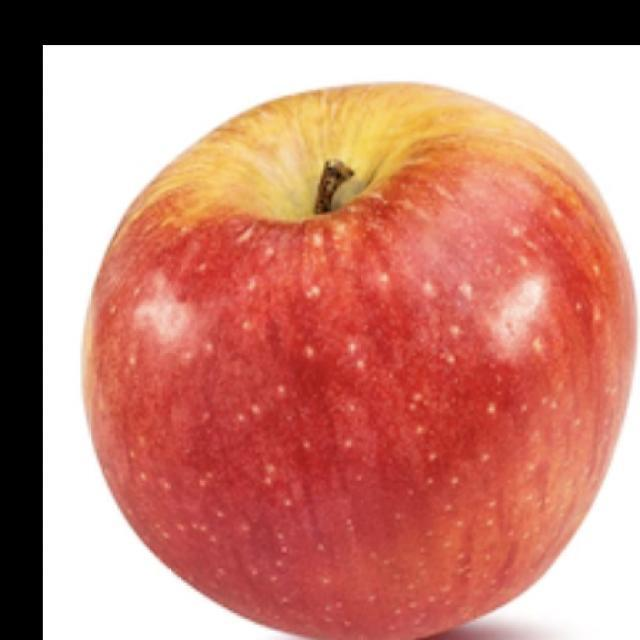Fresh Apple: (74, 80, 640, 640)
